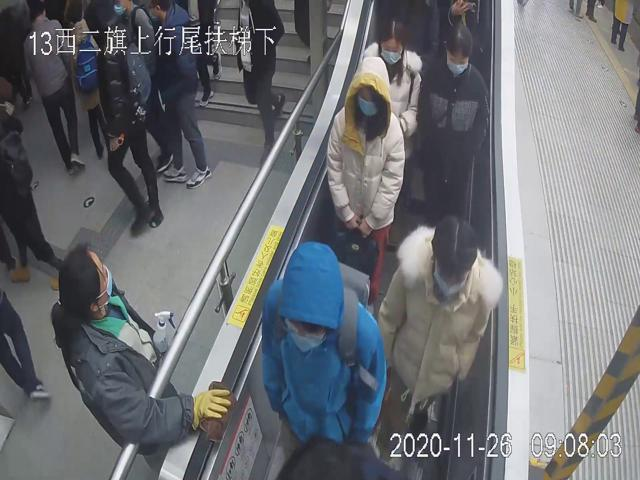person: (49, 242, 231, 451), (377, 214, 502, 441), (261, 239, 387, 447), (324, 51, 405, 288), (84, 0, 164, 236), (419, 18, 490, 222), (361, 16, 423, 178)
